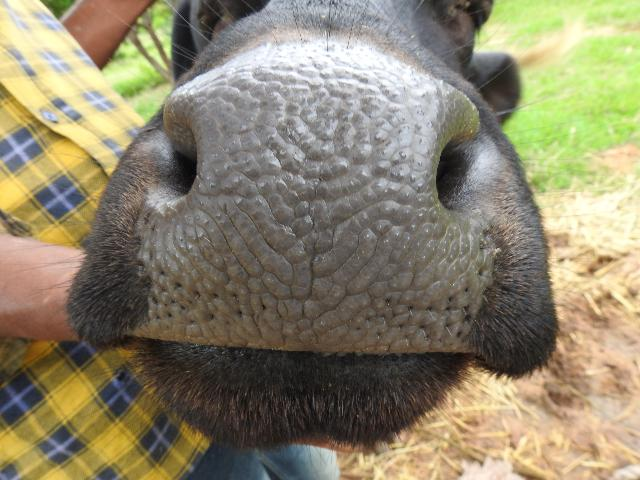Muzzle: (198, 78, 430, 358)
